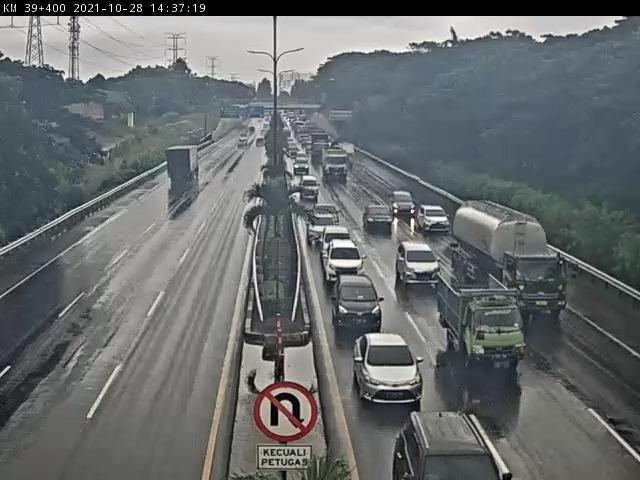car: (395, 412, 502, 480), (351, 331, 428, 407), (332, 275, 384, 332), (394, 241, 444, 290), (323, 241, 369, 283), (319, 225, 351, 261), (418, 204, 453, 236), (362, 204, 397, 231), (309, 214, 338, 246), (391, 190, 420, 217), (312, 205, 343, 226), (301, 176, 321, 203), (293, 155, 314, 176)
truck: (454, 203, 572, 324), (437, 271, 530, 376), (166, 146, 202, 182), (324, 150, 348, 180)
